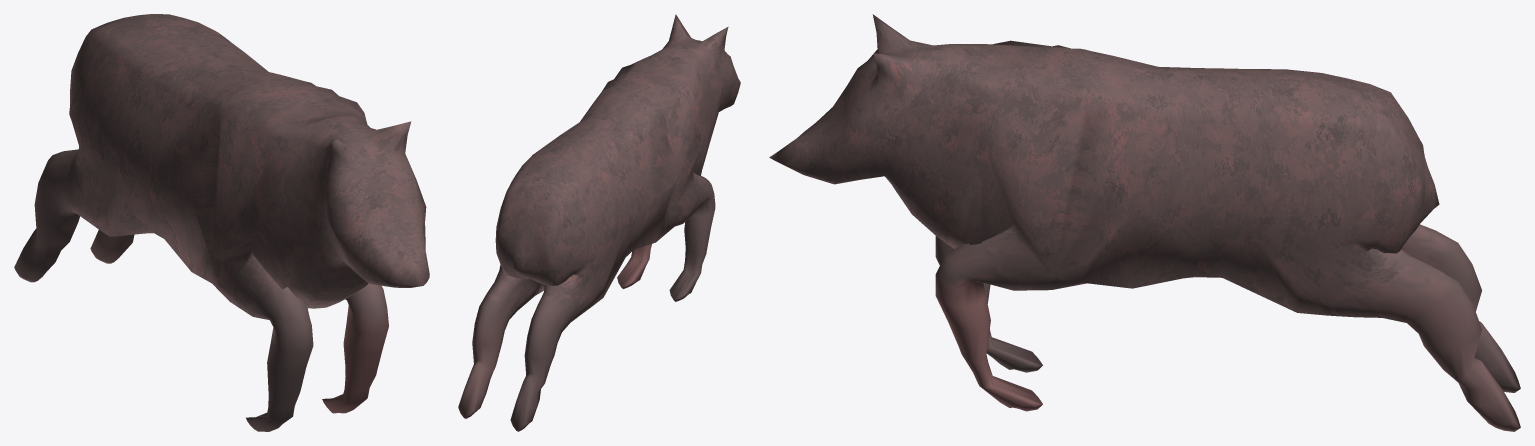
The model's file is piesblend_000024.obj.
3 renders of one model, left to right at view 1: azimuth 30°, elevation 25°; view 2: azimuth 150°, elevation 25°; view 3: azimuth 270°, elevation 25°, orthographic. The views are drawn at different scales.
Visible parts, largest first — view 1: Cube; view 2: Cube; view 3: Cube.
Part boxes in pixels (x1,y1,x2,y2): Cube: (14, 14, 429, 431); Cube: (458, 14, 740, 431); Cube: (769, 14, 1520, 431).
Size of the model in its own units: 2.55 by 5.72 by 10.26.
1 material, 1 textured.
